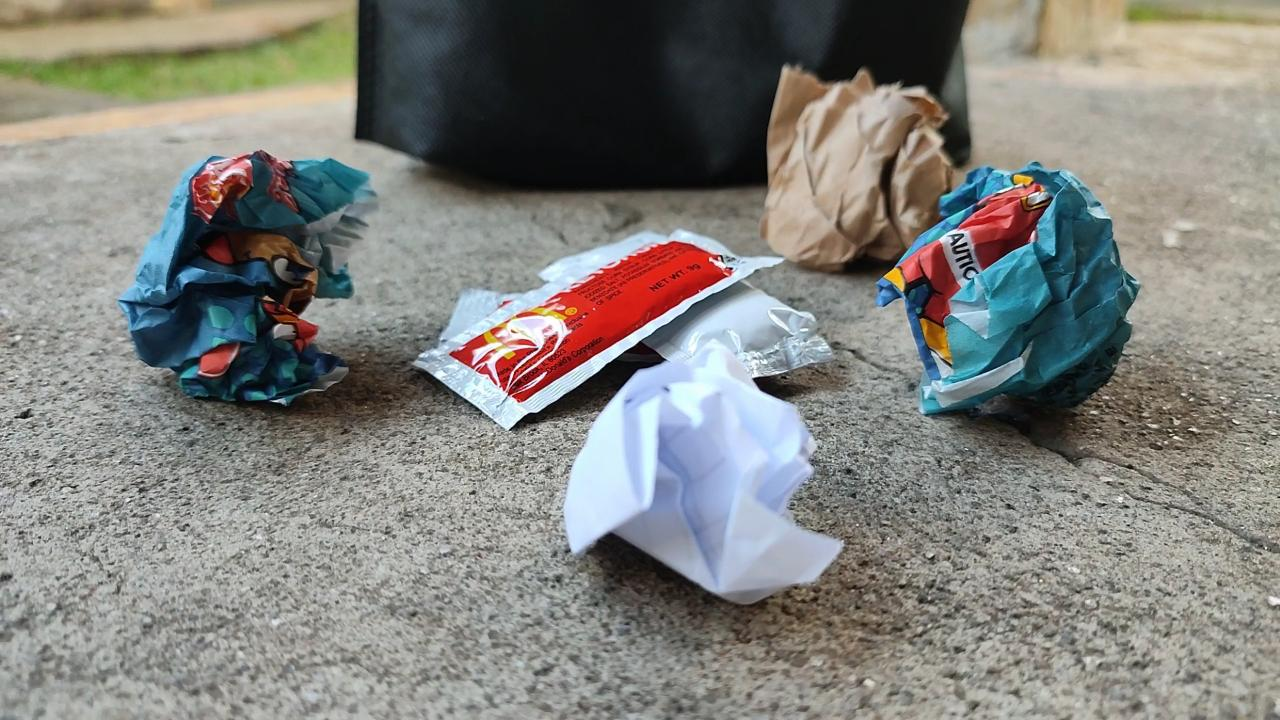paper: (564, 343, 841, 602), (119, 150, 377, 403), (876, 164, 1138, 413), (761, 65, 952, 268)
